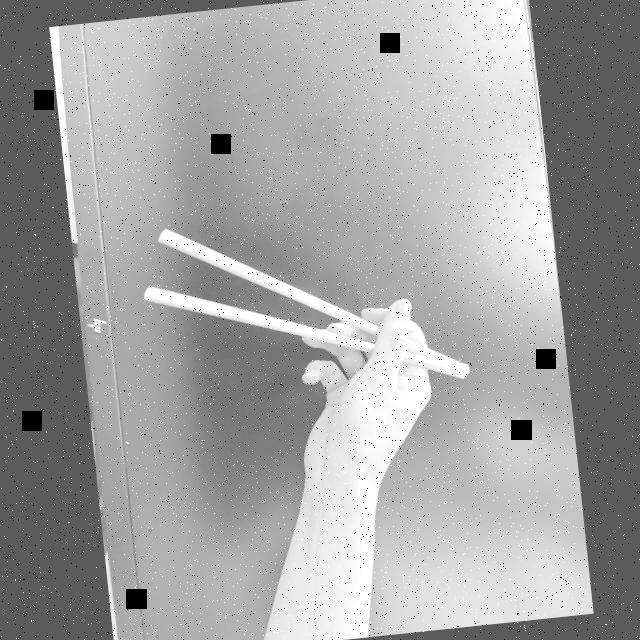stick: (136, 197, 477, 482)
